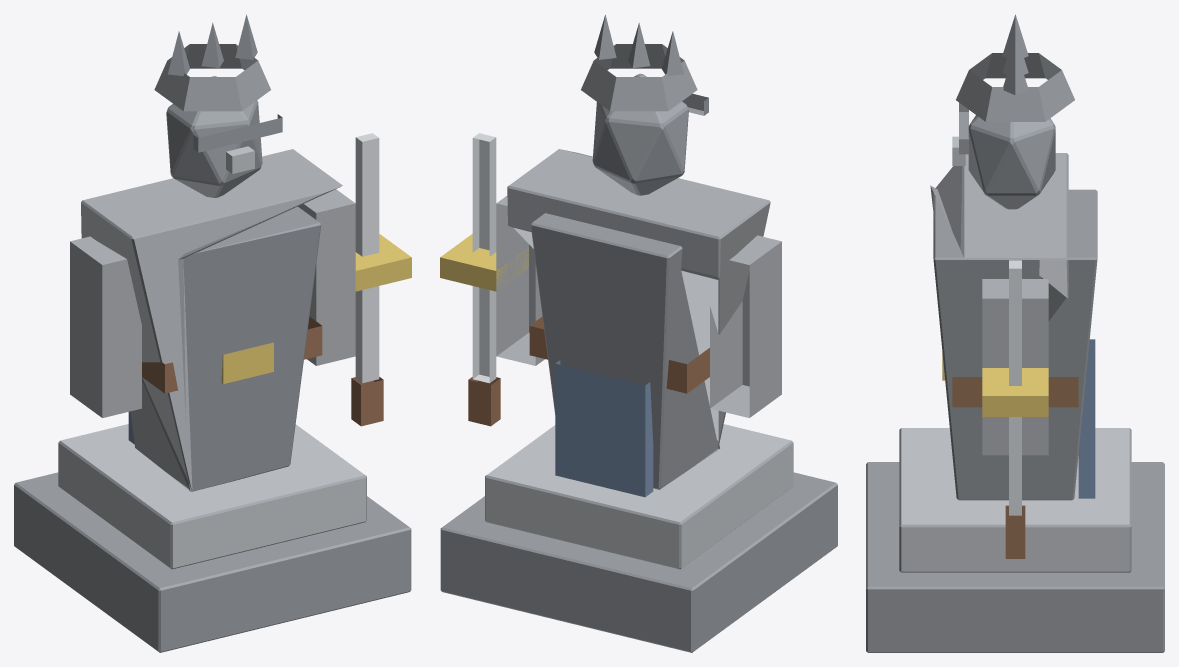
File: statue.glb
3 views of the same model, side by side, from view 1: azimuth 30°, elevation 25°; view 2: azimuth 150°, elevation 25°; view 3: azimuth 270°, elevation 25° (orthographic). The views are drawn at different scales.
Visible parts, largest first — view 1: statue_hero, statue_detail; view 2: statue_hero, statue_detail; view 3: statue_hero, statue_detail.
Boxes of the visible parts, <box> form: statue_hero: <box>14,76,411,652</box>; statue_detail: <box>70,14,411,444</box>; statue_hero: <box>440,73,837,652</box>; statue_detail: <box>440,14,781,497</box>; statue_hero: <box>866,115,1164,652</box>; statue_detail: <box>942,14,1095,558</box>.
Size of the model in its own units: 1.1 by 1.86 by 0.9.
